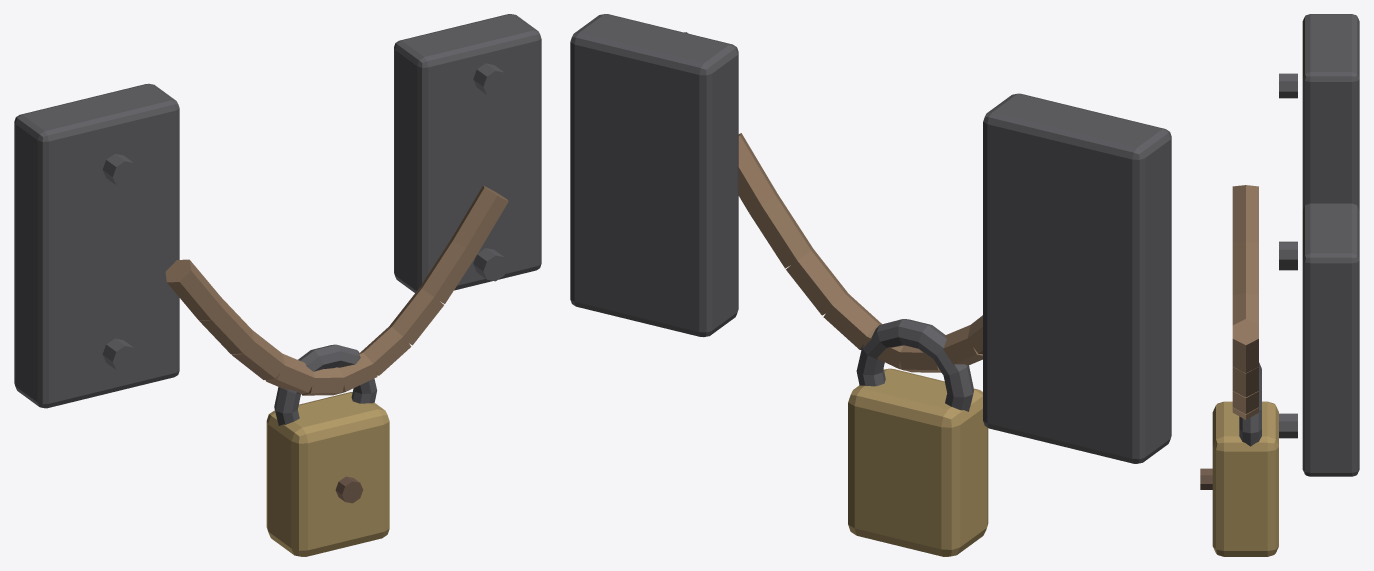
3 views of the same model, side by side, from view 1: azimuth 30°, elevation 25°; view 2: azimuth 150°, elevation 25°; view 3: azimuth 270°, elevation 25° (orthographic). The views are drawn at different scales.
Parts seen in each view (by area): view 1: doorChain; view 2: doorChain; view 3: doorChain.
Boxes of the visible parts, left/top/right/bottom form: doorChain: left=14, top=14, right=541, bottom=556; doorChain: left=570, top=14, right=1171, bottom=556; doorChain: left=1200, top=14, right=1359, bottom=556.
Bounding box in the file's own units: 0.57 × 0.48 × 0.168.
